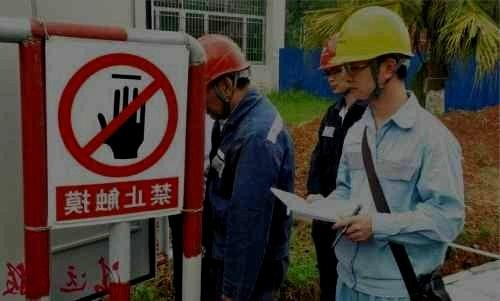helmet: (328, 5, 415, 101), (196, 33, 252, 121), (317, 32, 351, 94)
